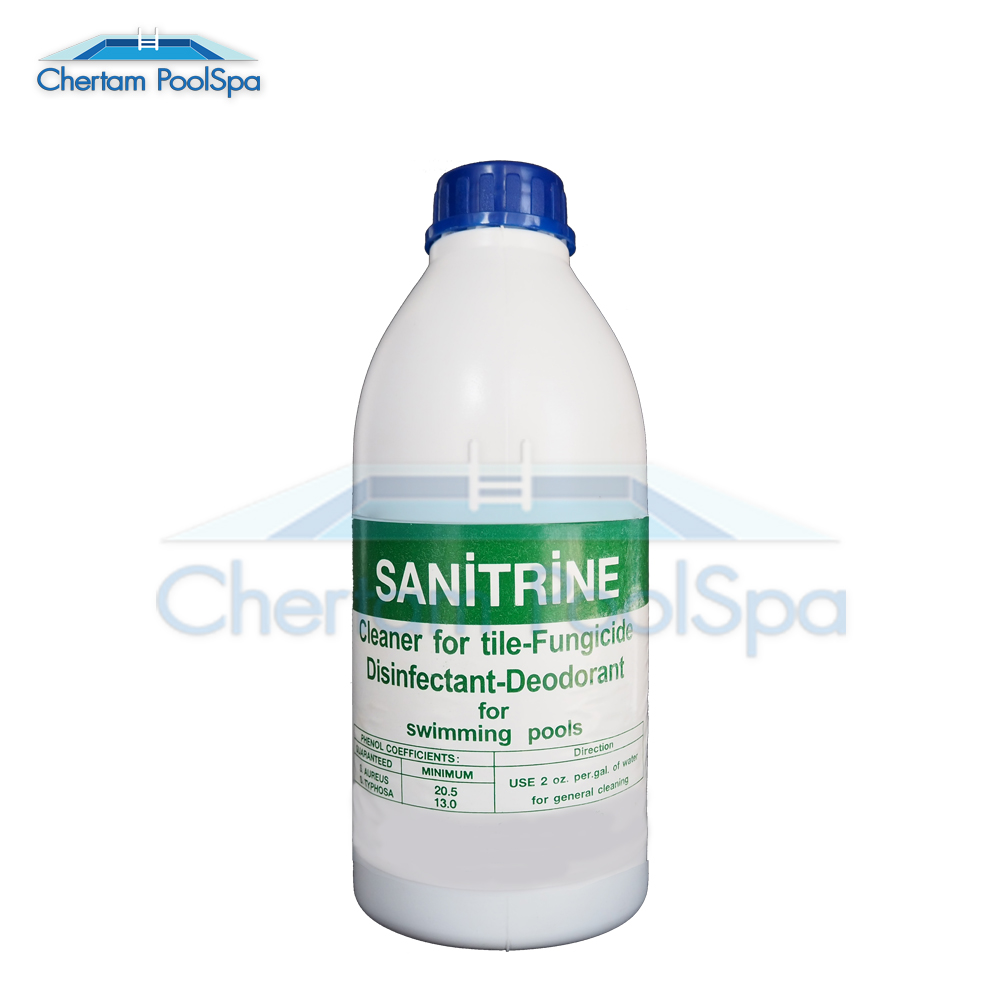Cleaning_solution: (343, 157, 658, 960)
